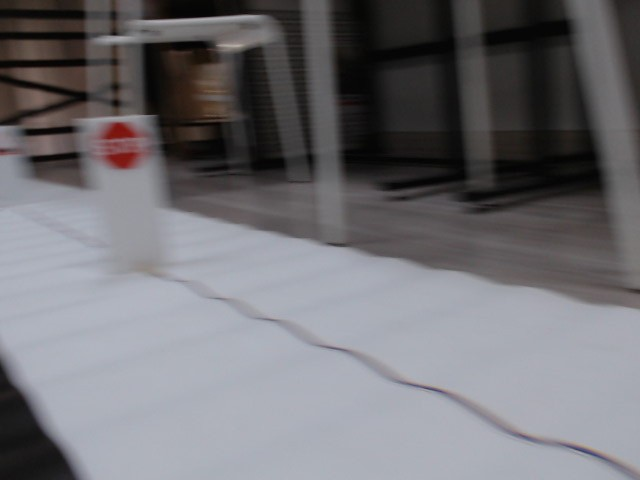Stop: (96, 121, 148, 168)
